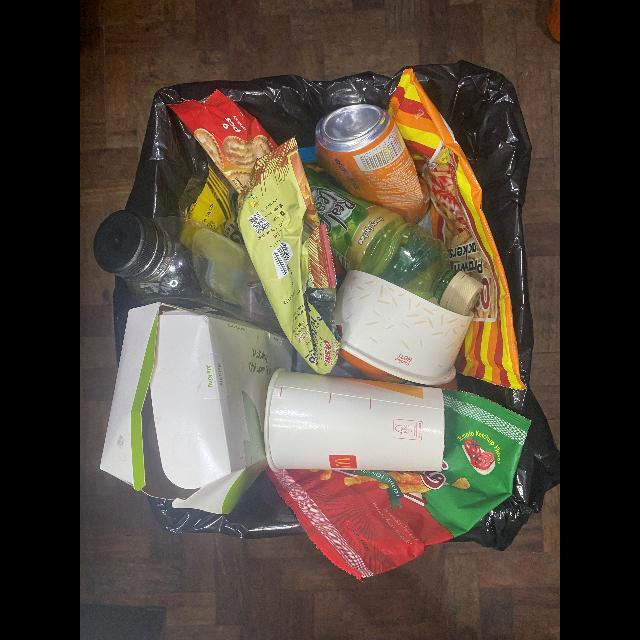aluminum: (315, 106, 429, 225)
cardboard: (99, 298, 317, 515), (262, 368, 444, 475), (336, 269, 473, 386)
food_wrapper: (266, 387, 531, 583), (390, 69, 526, 390), (238, 139, 340, 374), (164, 88, 276, 196), (177, 145, 243, 244)
plastic_bottle: (303, 162, 488, 316), (93, 208, 285, 337)
